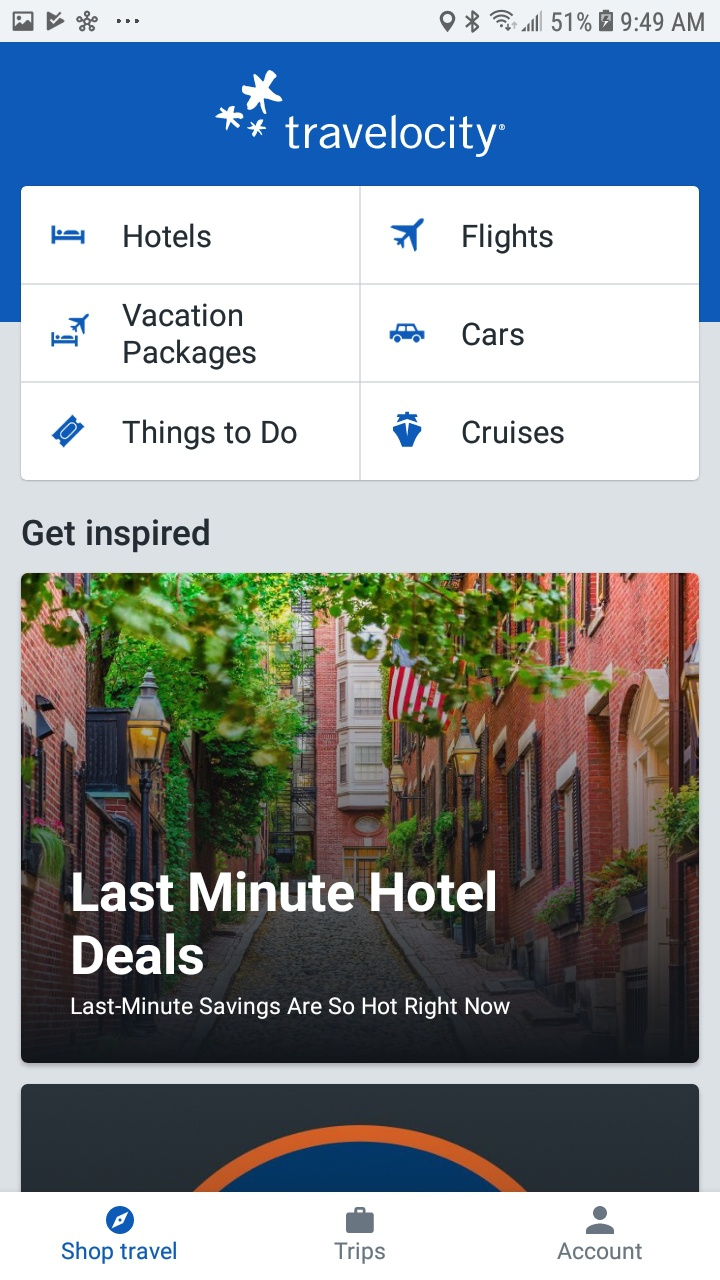Icon: (52, 415, 86, 449), (586, 1206, 615, 1235), (106, 1206, 135, 1235), (346, 1207, 375, 1234)
Image: (21, 573, 699, 1063), (21, 1084, 699, 1192), (215, 70, 284, 139), (51, 314, 91, 348), (390, 218, 425, 253), (392, 411, 422, 448), (389, 323, 426, 344), (52, 225, 87, 246)
Text: (73, 869, 496, 976), (71, 996, 511, 1020), (285, 115, 506, 159), (122, 303, 257, 371), (23, 518, 211, 554), (122, 419, 298, 451), (462, 223, 554, 255), (62, 1240, 177, 1264), (462, 419, 565, 445), (124, 223, 212, 249), (462, 322, 525, 348), (557, 1242, 643, 1260), (334, 1242, 386, 1265)
UpperTaskBar: (1, 1, 720, 43)
